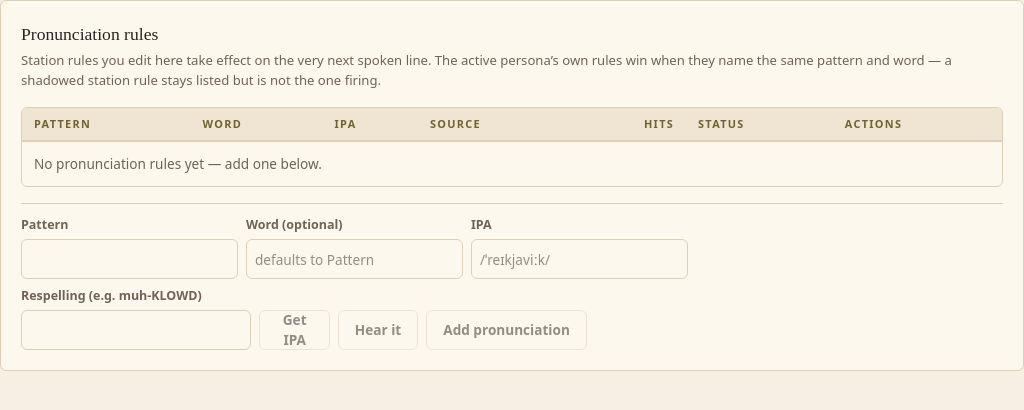
Test: Feature: adding a pronunciation rule › Scenario (sad path): the rule is rejected in place › surfaces the 400's field message under the offending field, not as a toast
The width and height of the screenshot is (1024, 410).
Step 1. Type "MacLeod" into the field labelled "Pattern" → (130, 259), box top-left (21, 239), bottom-right (238, 279)
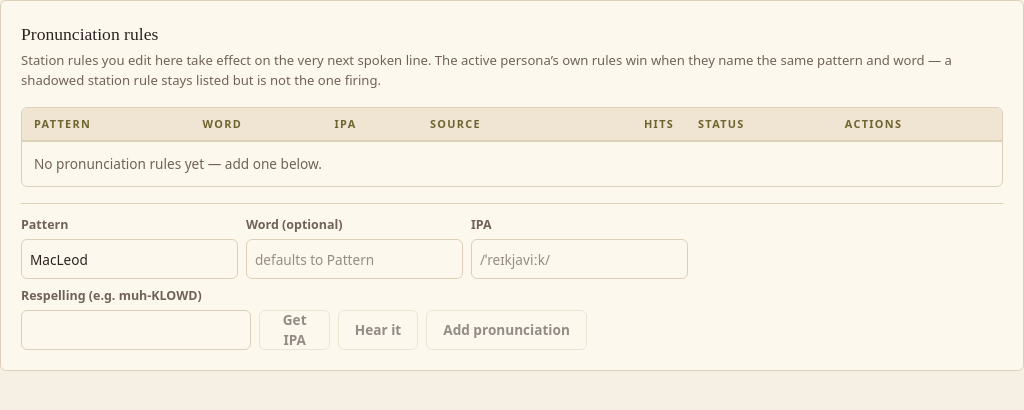
Step 2. Type "/x)/" into the field labelled "IPA" → (580, 259), box top-left (471, 239), bottom-right (688, 279)
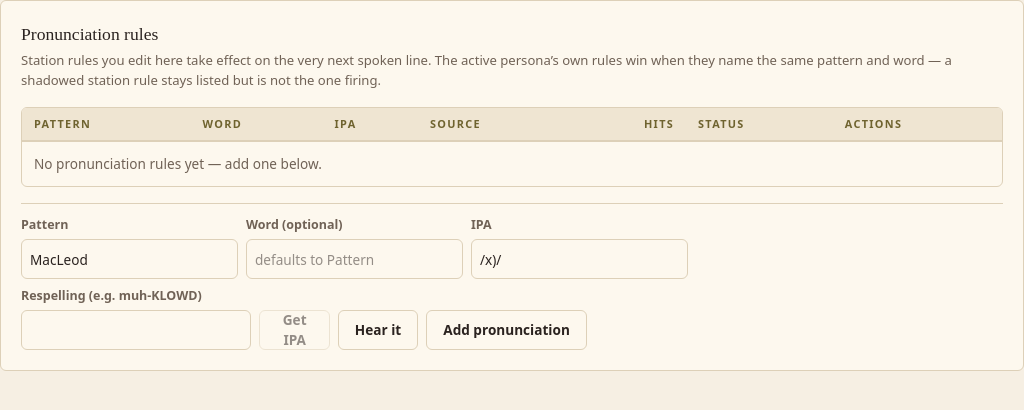
Step 3. Click the button "Add pronunciation" → (507, 330), box top-left (426, 310), bottom-right (587, 350)
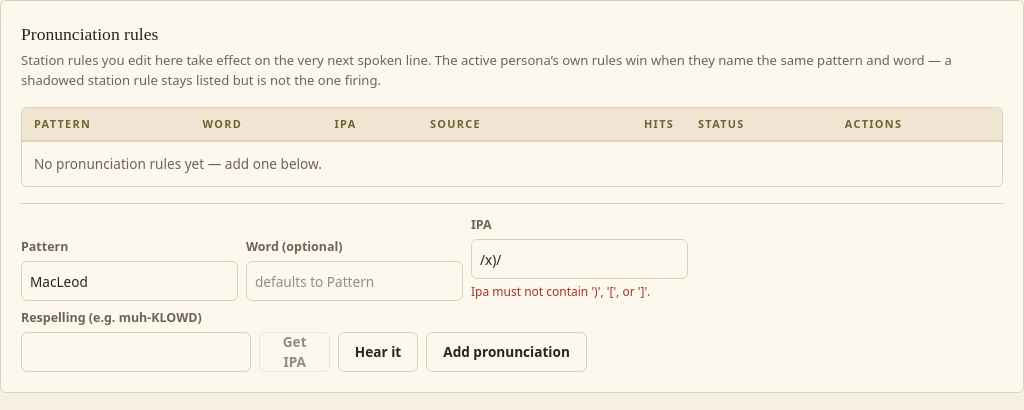
Check: the text "Ipa must not contain ')', '[', or ']'." is shown, box top-left (471, 283), bottom-right (650, 300)
